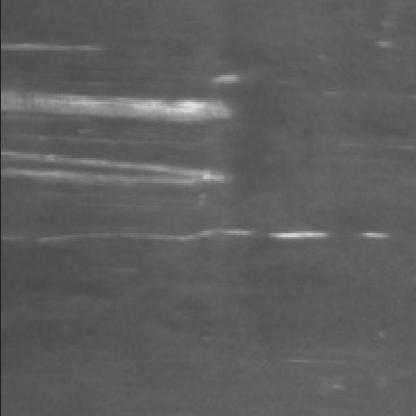scratches: (0, 138, 231, 200), (0, 75, 239, 125), (32, 224, 400, 254)
